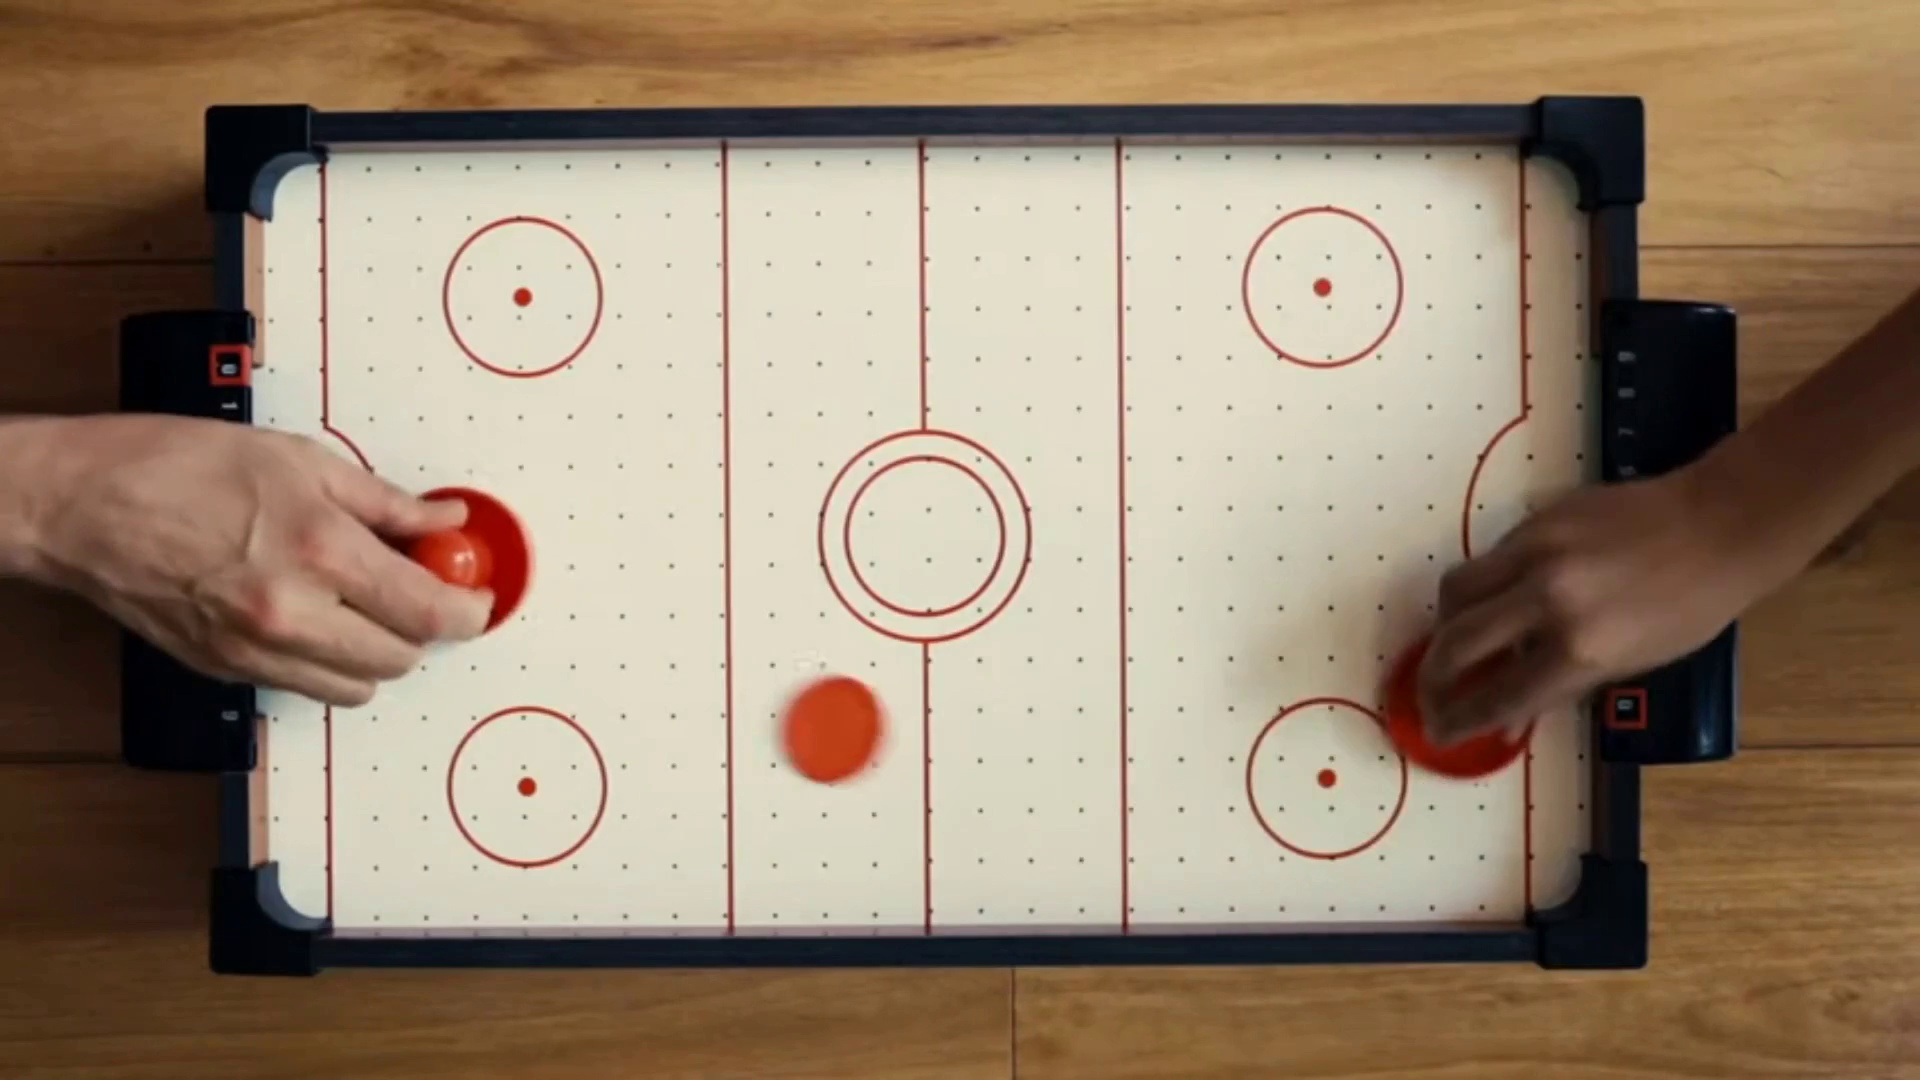player: (1381, 631, 1529, 783), (389, 489, 531, 638)
puck: (781, 675, 890, 789)
table: (252, 148, 1618, 926)
